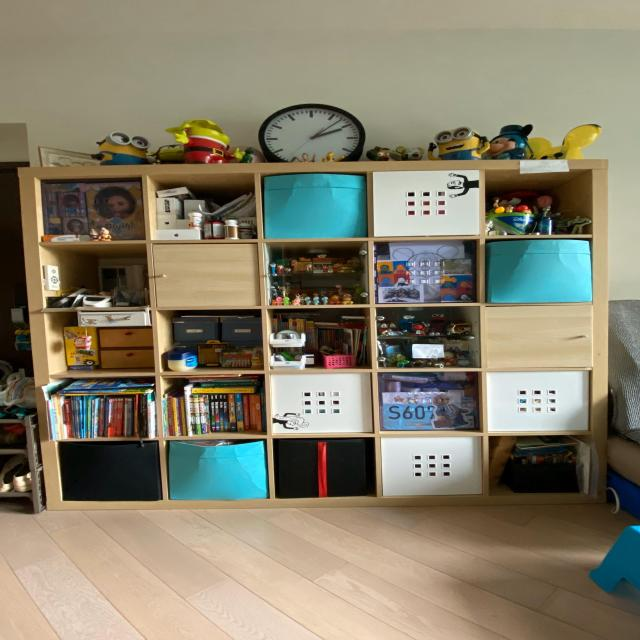Shelf: (15, 161, 618, 508)
